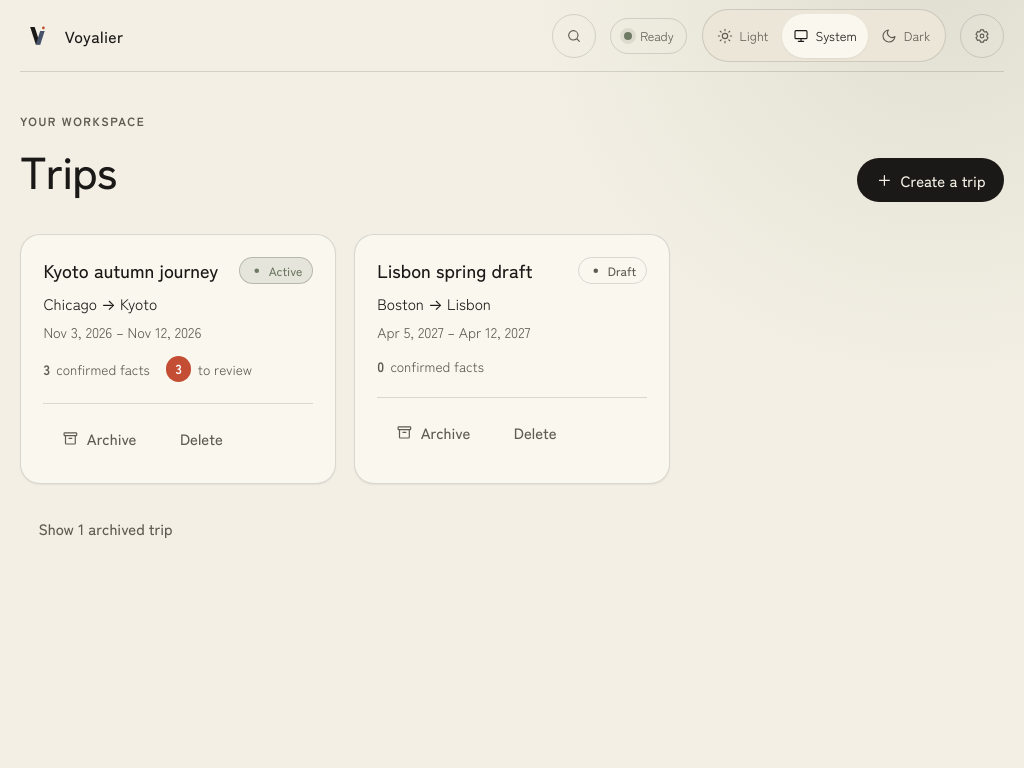
Test case: City pack suggestions › supports an ambiguous match with more than one option
What coordinates should you click on to do the following:
click the button with aria-label "Open Kyoto autumn journey"
I would click on:
 (131, 270)
Its box is [43, 257, 218, 283].
(page scrolled)
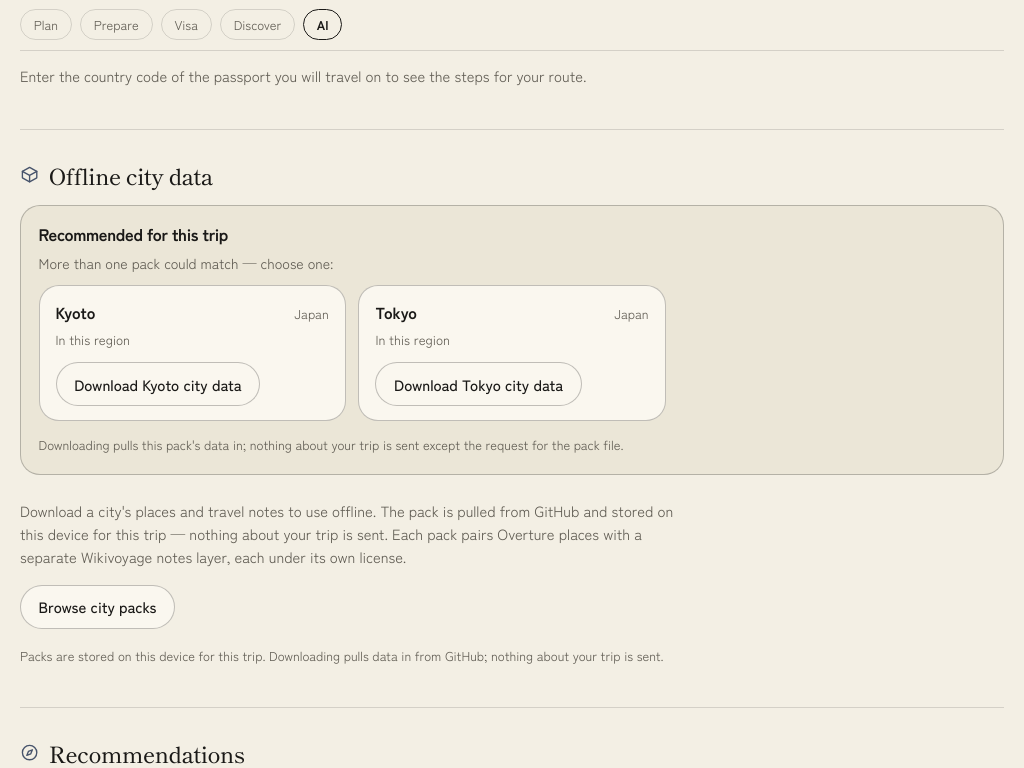
Expected: the text "More than one pack could match — choose one:" is shown, [39, 253, 334, 273]
Expected: the button "Download Kyoto city data" is shown, [56, 362, 260, 406]
Expected: the button "Download Tokyo city data" is shown, [376, 362, 582, 406]
